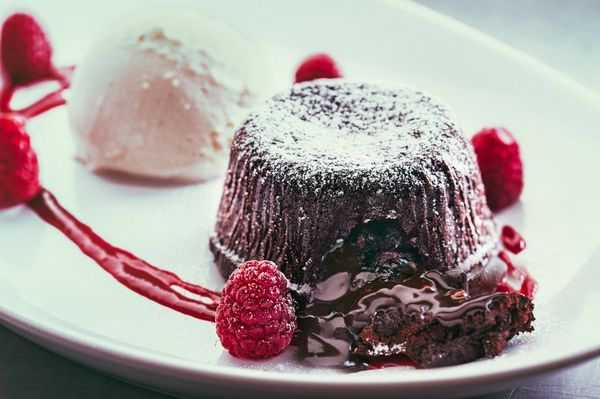sushi: (210, 80, 538, 368), (210, 79, 501, 288)
